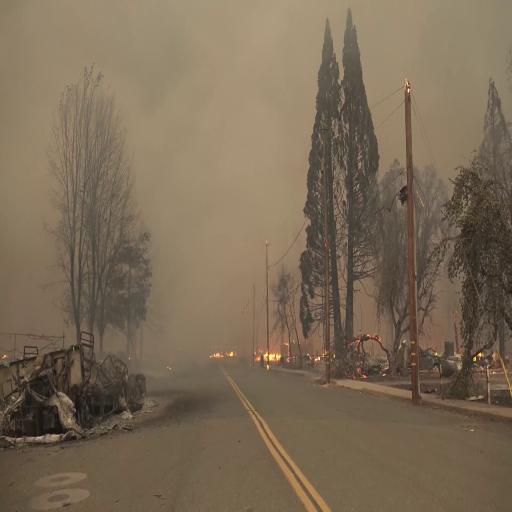smoke: (152, 16, 270, 230)
